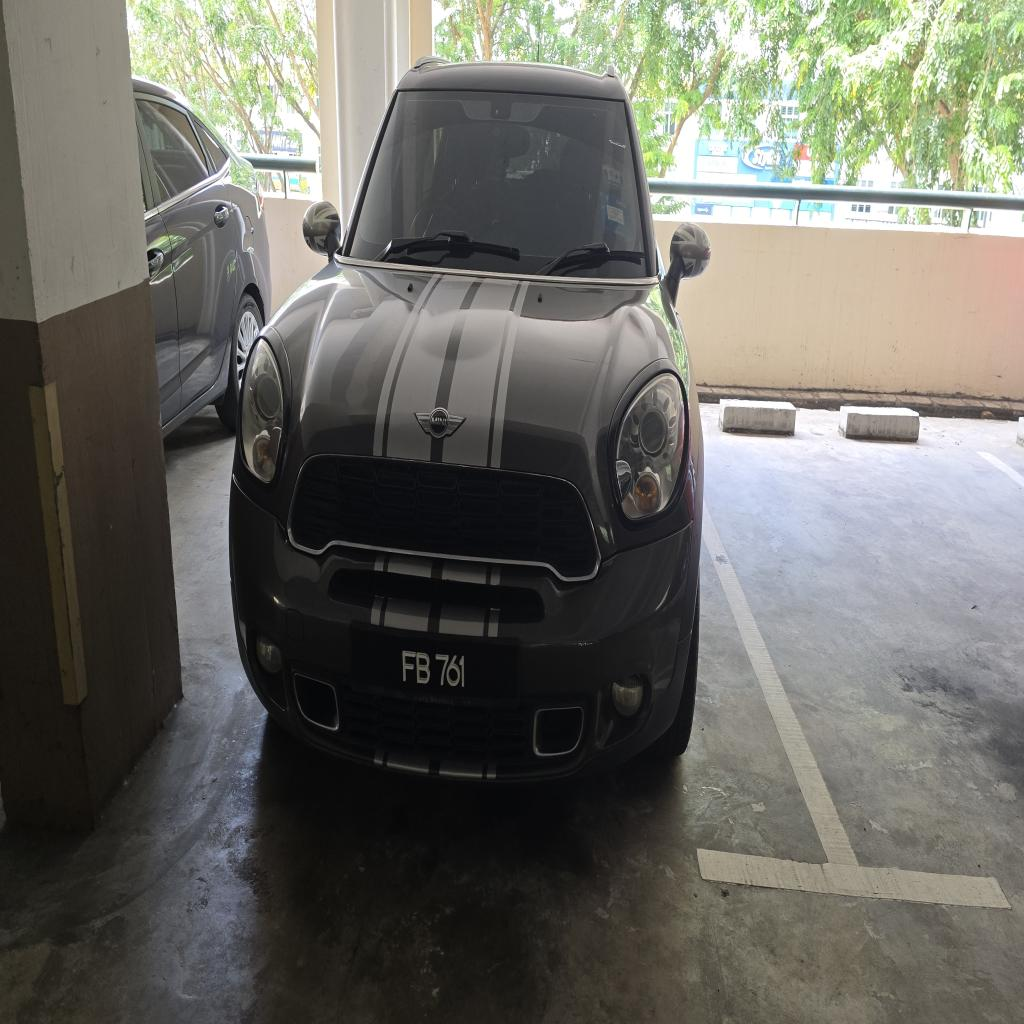car: (231, 60, 709, 780)
car plate: (352, 631, 517, 700)
